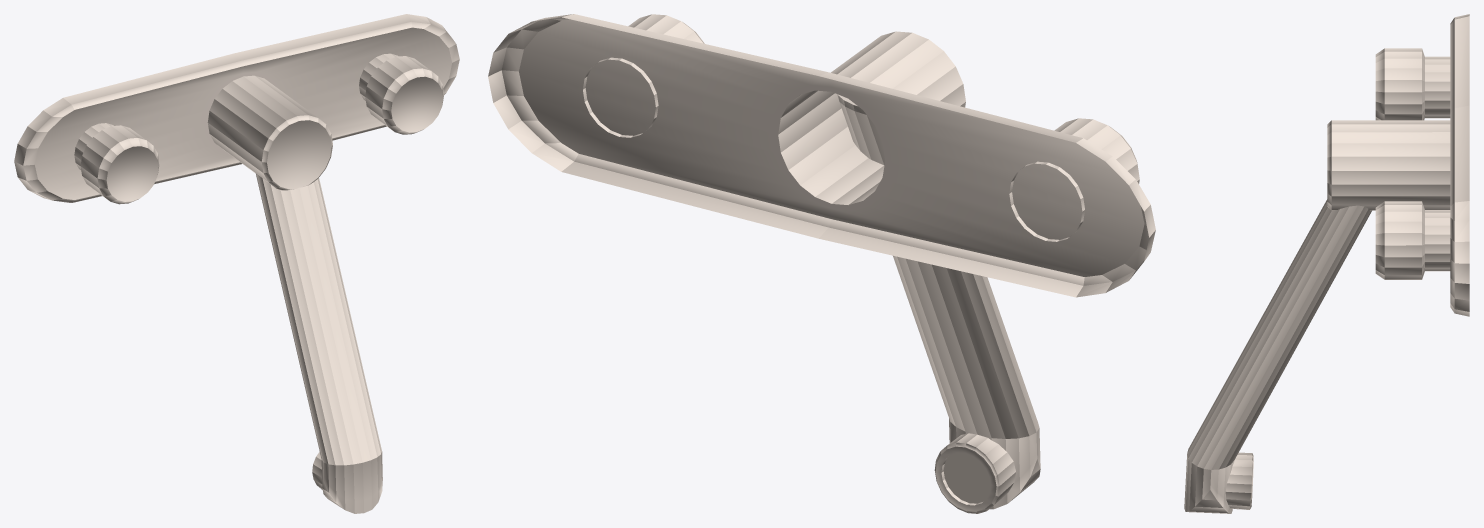
The model's file is MeshFaucet_5_0.obj.
3 renders of one model, left to right at view 1: azimuth 30°, elevation 25°; view 2: azimuth 150°, elevation 25°; view 3: azimuth 270°, elevation 25°, orthographic. The views are drawn at different scales.
Parts seen in each view (by area): view 1: Faucet_5; view 2: Faucet_5; view 3: Faucet_5.
Part boxes in pixels (x1=…): Faucet_5: x1=14, y1=14, x2=459, y2=513; Faucet_5: x1=488, y1=14, x2=1155, y2=513; Faucet_5: x1=1184, y1=14, x2=1469, y2=513.
Bounding box in the file's own units: 0.2888 × 0.2296 × 0.1467.
